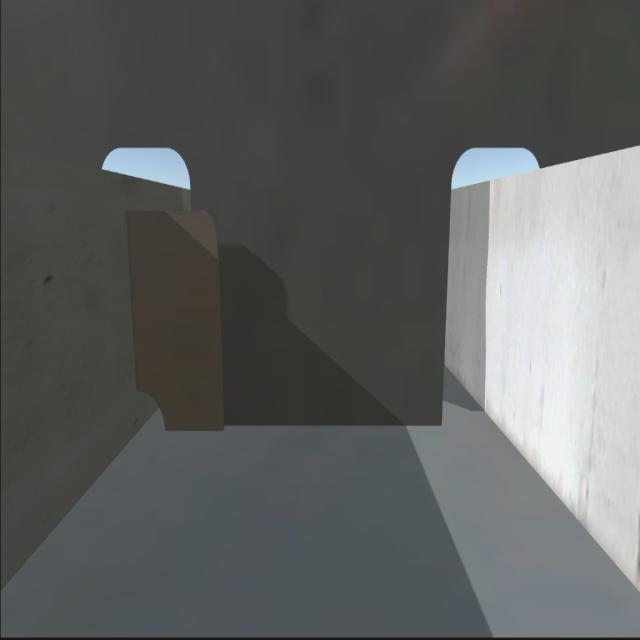fillet_hole: (140, 390, 169, 434)
fillet_yong_jeop_jang: (174, 422, 445, 434)
longi_yong_jeop_jang: (123, 219, 143, 392)
plate_CP05: (128, 204, 222, 438)
